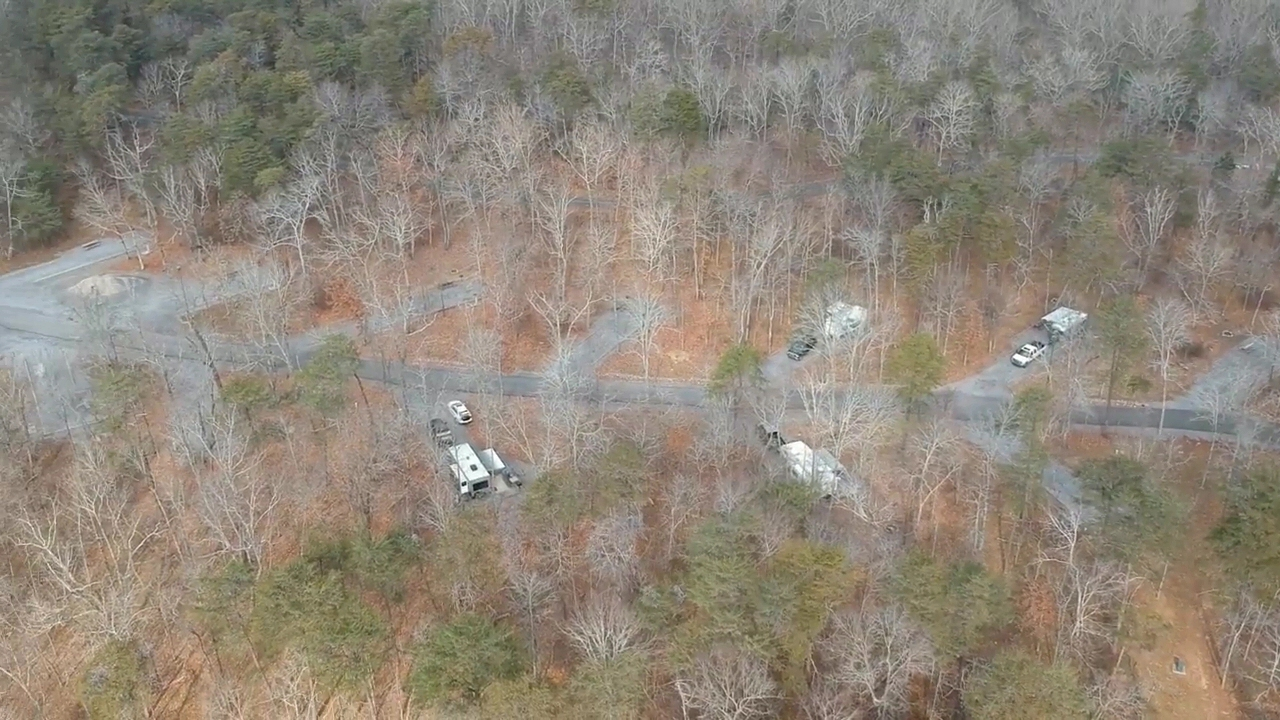araba: (787, 332, 820, 363), (428, 417, 454, 448), (446, 399, 473, 428)
kamyonet: (1009, 340, 1051, 369), (755, 417, 787, 455)
